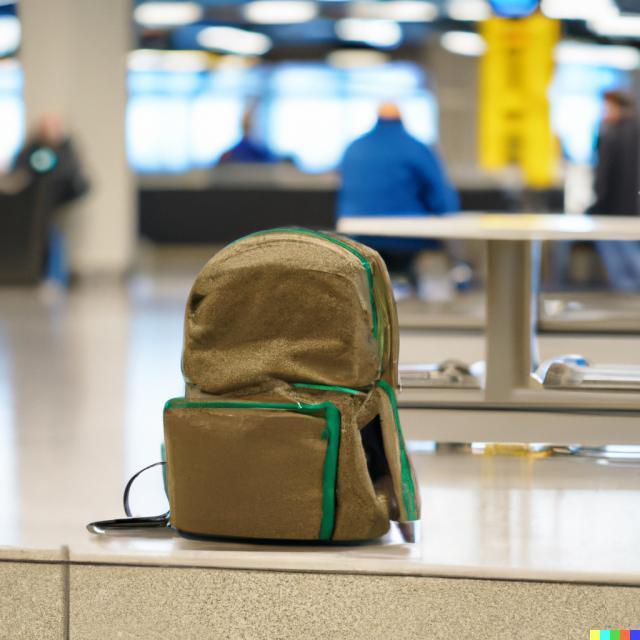Backpacks: (153, 219, 424, 561)
